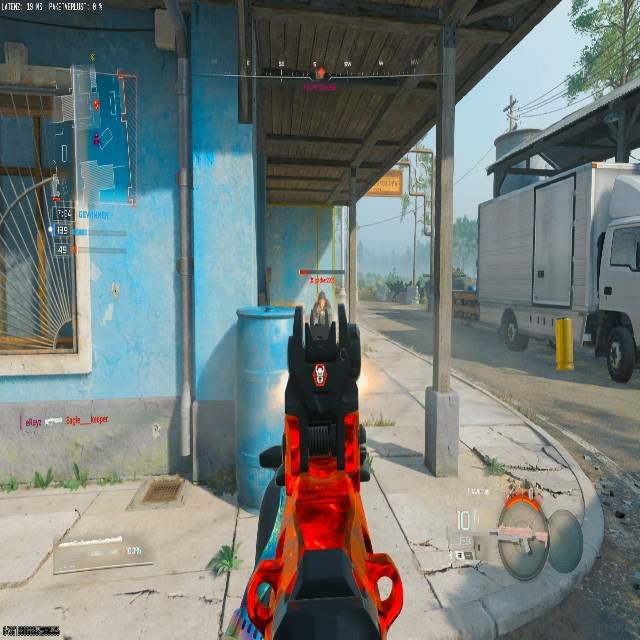head: (317, 291, 325, 299)
player: (311, 291, 328, 325)
